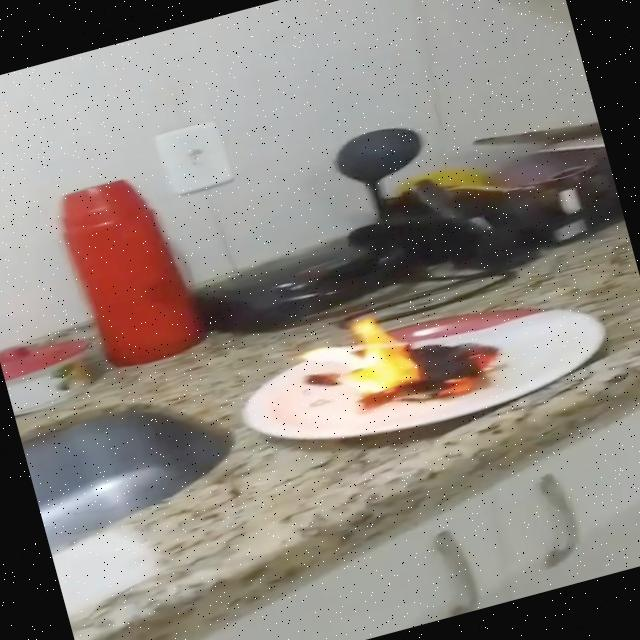fire: (282, 280, 514, 439)
